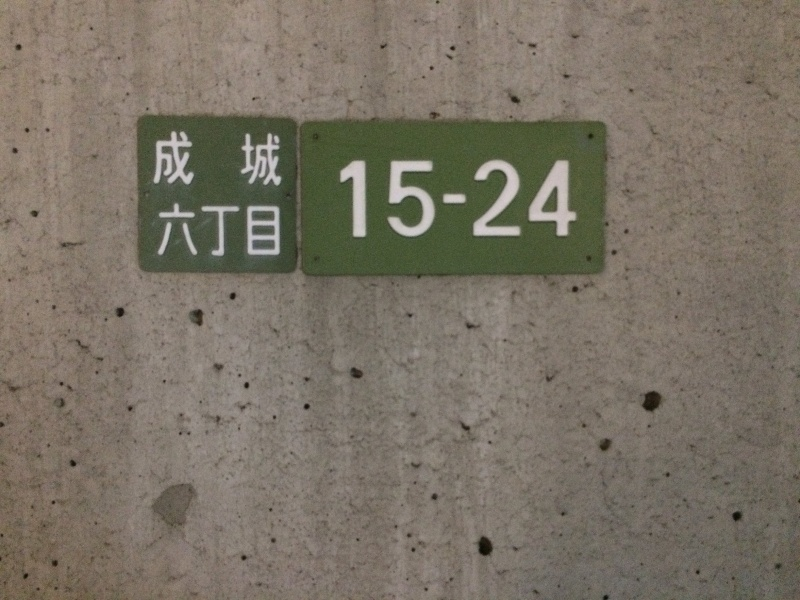text: (353, 154, 368, 245), (369, 154, 384, 245), (385, 154, 400, 245), (401, 154, 416, 245), (417, 154, 432, 245), (433, 154, 448, 245), (449, 154, 464, 245), (465, 154, 480, 245), (481, 154, 496, 245), (497, 154, 512, 245), (513, 154, 528, 245), (529, 154, 544, 245), (545, 154, 560, 245), (561, 154, 576, 245), (338, 154, 352, 245), (577, 154, 588, 245), (161, 129, 176, 191), (177, 129, 192, 191), (193, 129, 208, 191), (209, 129, 224, 191), (225, 129, 240, 191), (241, 129, 256, 191), (257, 129, 272, 191), (161, 201, 176, 262), (177, 201, 192, 262), (193, 201, 208, 262), (209, 201, 224, 262), (225, 201, 240, 262), (241, 201, 256, 262), (257, 201, 272, 262), (273, 129, 285, 191), (273, 201, 285, 262), (155, 201, 160, 262), (156, 129, 160, 191)
